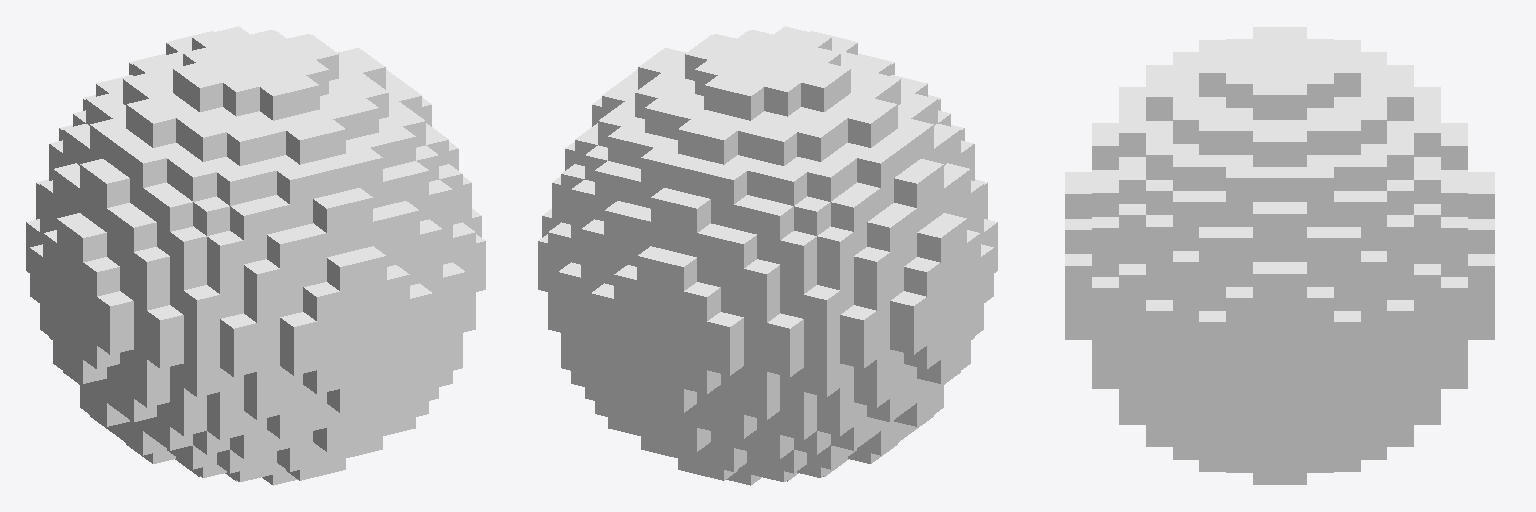
The model's file is planetas-14-verde.obj.
3 renders of one model, left to right at view 1: azimuth 30°, elevation 25°; view 2: azimuth 150°, elevation 25°; view 3: azimuth 270°, elevation 25°, orthographic.
Parts seen in each view (by area): view 1: object 1; view 2: object 1; view 3: object 1.
Boxes of the visible parts, x1,y1,x2,y2 form: object 1: [26, 26, 485, 485]; object 1: [538, 26, 997, 485]; object 1: [1065, 27, 1494, 484].
Bounding box in the file's own units: 1.6 × 1.6 × 1.6.